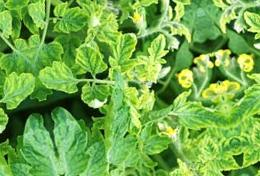Tomato leaf yellow virus: (163, 83, 232, 144), (34, 52, 88, 105), (102, 25, 150, 70), (68, 35, 112, 82), (48, 0, 93, 40), (143, 29, 175, 70), (195, 128, 221, 170), (218, 132, 239, 160), (165, 0, 194, 14), (201, 171, 241, 176), (157, 172, 197, 176), (45, 0, 87, 3)
